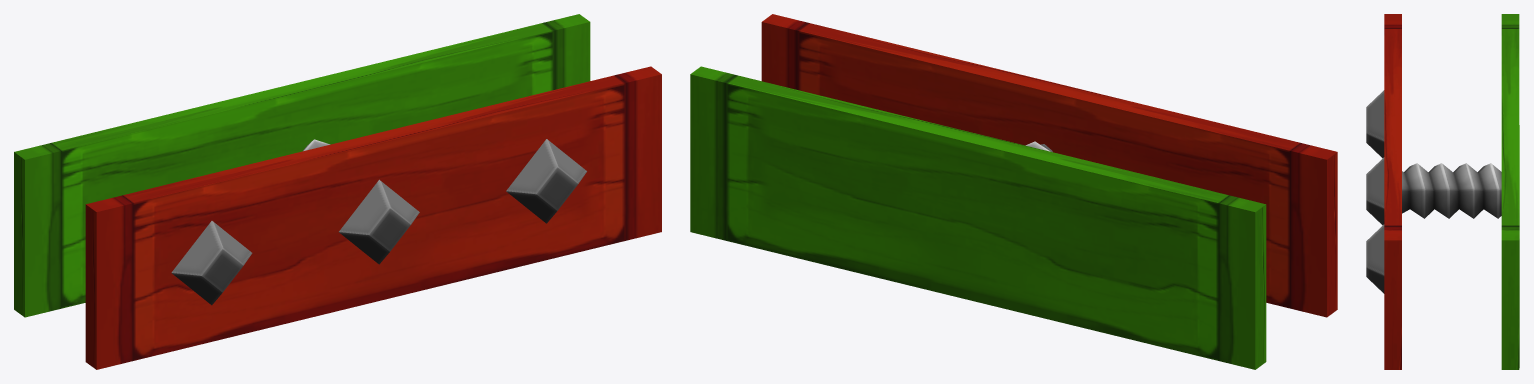
Rendered from fence_burger_02.fbx.
3 renders of one model, left to right at view 1: azimuth 30°, elevation 25°; view 2: azimuth 150°, elevation 25°; view 3: azimuth 270°, elevation 25°, orthographic. The views are drawn at different scales.
Parts seen in each view (by area): view 1: fence_burger_02; view 2: fence_burger_02; view 3: fence_burger_02.
Part boxes in pixels (bbox=[...]): fence_burger_02: bbox=[14, 14, 661, 369]; fence_burger_02: bbox=[690, 14, 1337, 369]; fence_burger_02: bbox=[1366, 14, 1519, 369].
Size of the model in its own units: 150 by 40 by 42.85.
